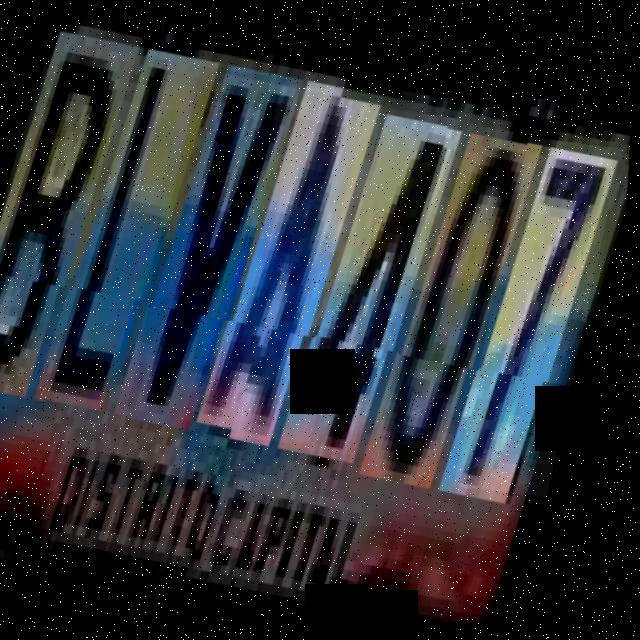4: (295, 107, 469, 468)
7: (459, 139, 625, 506)
A: (211, 83, 388, 451)
B: (0, 35, 141, 413)
L: (48, 51, 221, 429)
O: (378, 124, 549, 492)
V: (128, 66, 306, 445)
